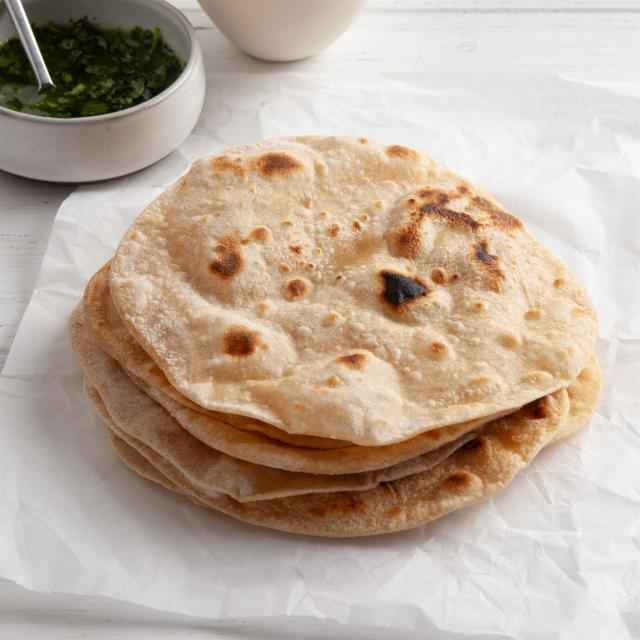roti: (63, 131, 606, 539)
